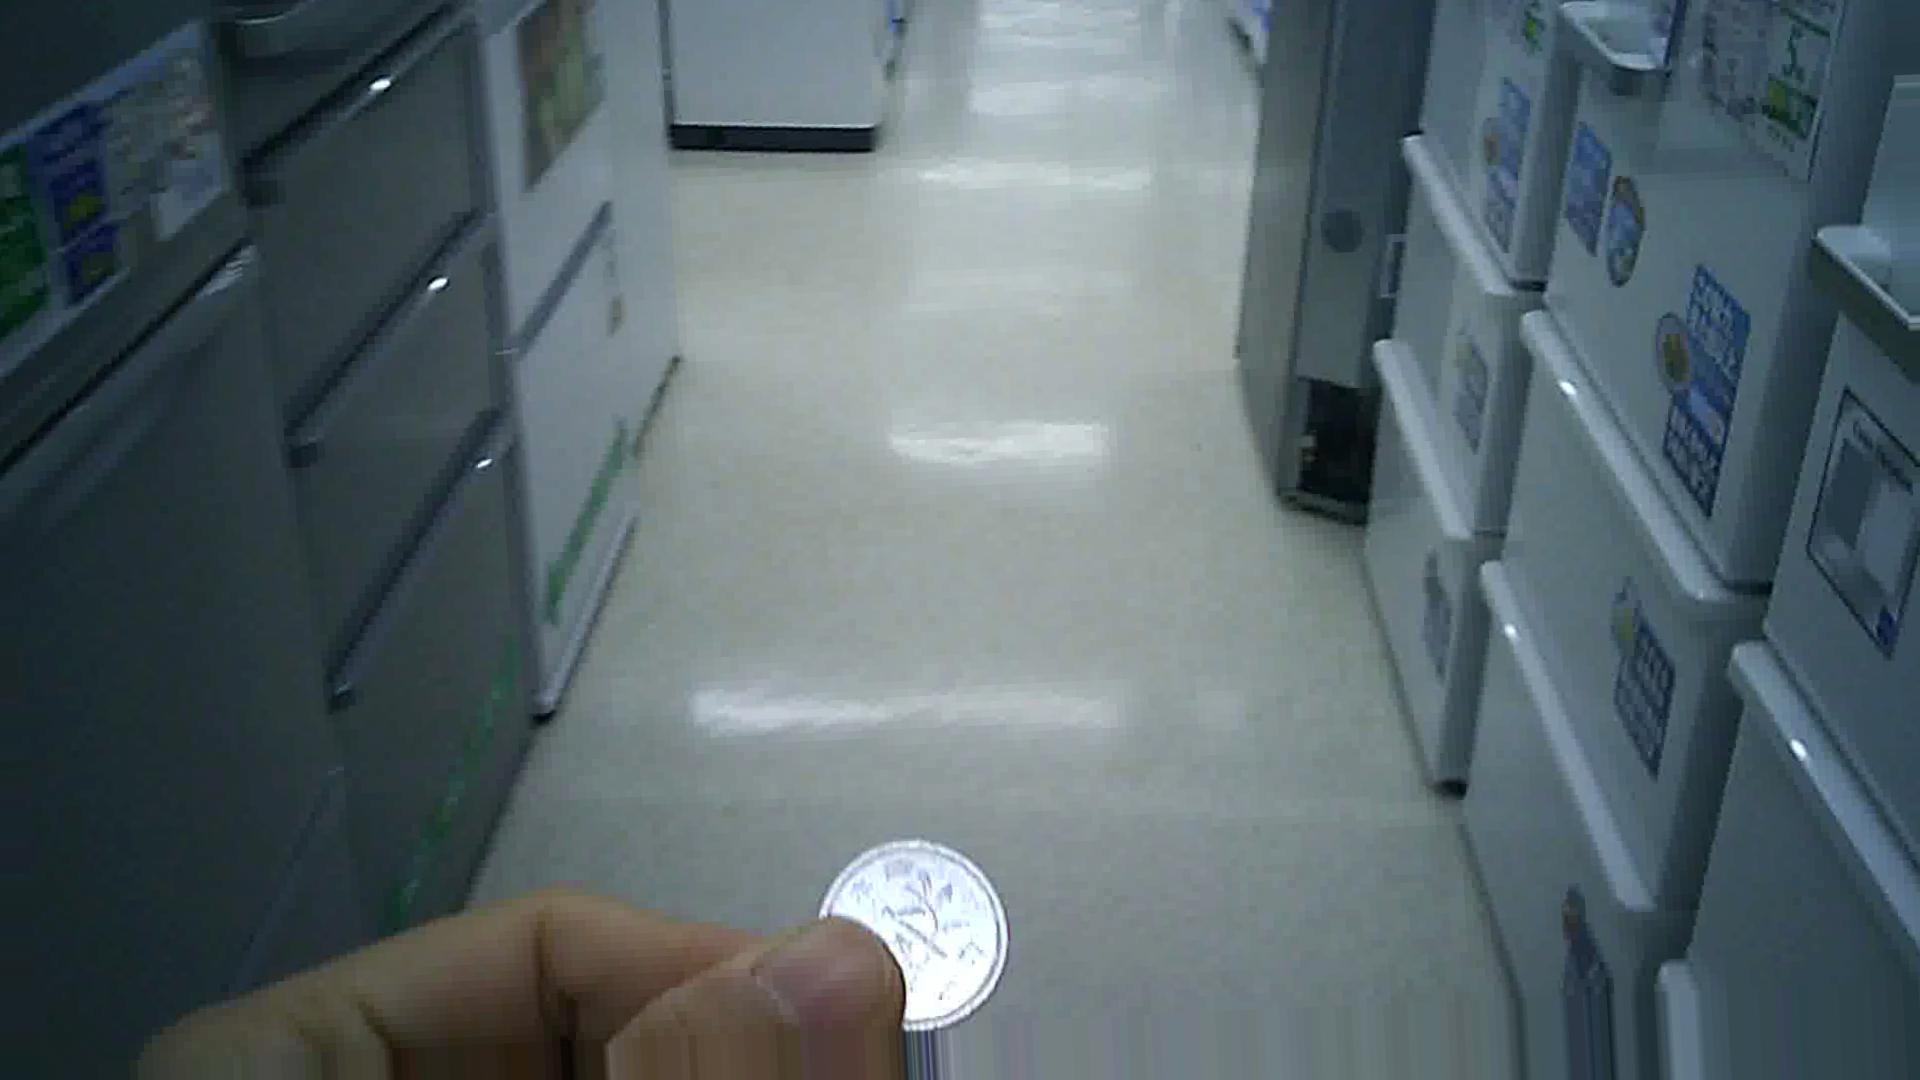1 Yen: (804, 840, 1033, 1035)
